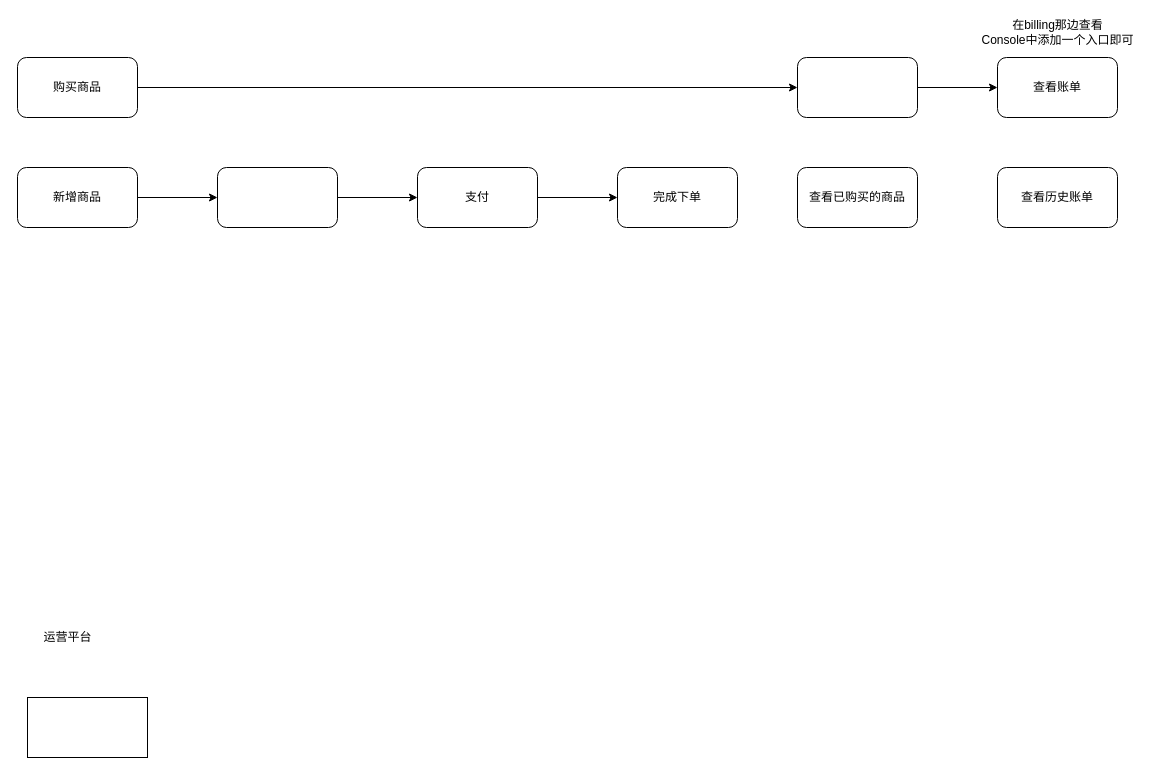
This 1160x775 diagram has some shape labels left out. Here are the shapes that lost their labels. From the top down, the centre of each, then its label:
(x=857, y=87): 管理已购买的商品
(x=277, y=197): 选择商品
(x=87, y=727): 针对用户误操作 可以在运营后台中删除客户购买的某个商品
